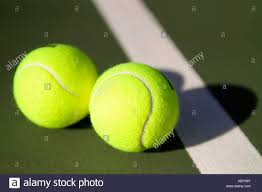tennis_ball: (87, 62, 180, 153), (13, 43, 99, 130)
